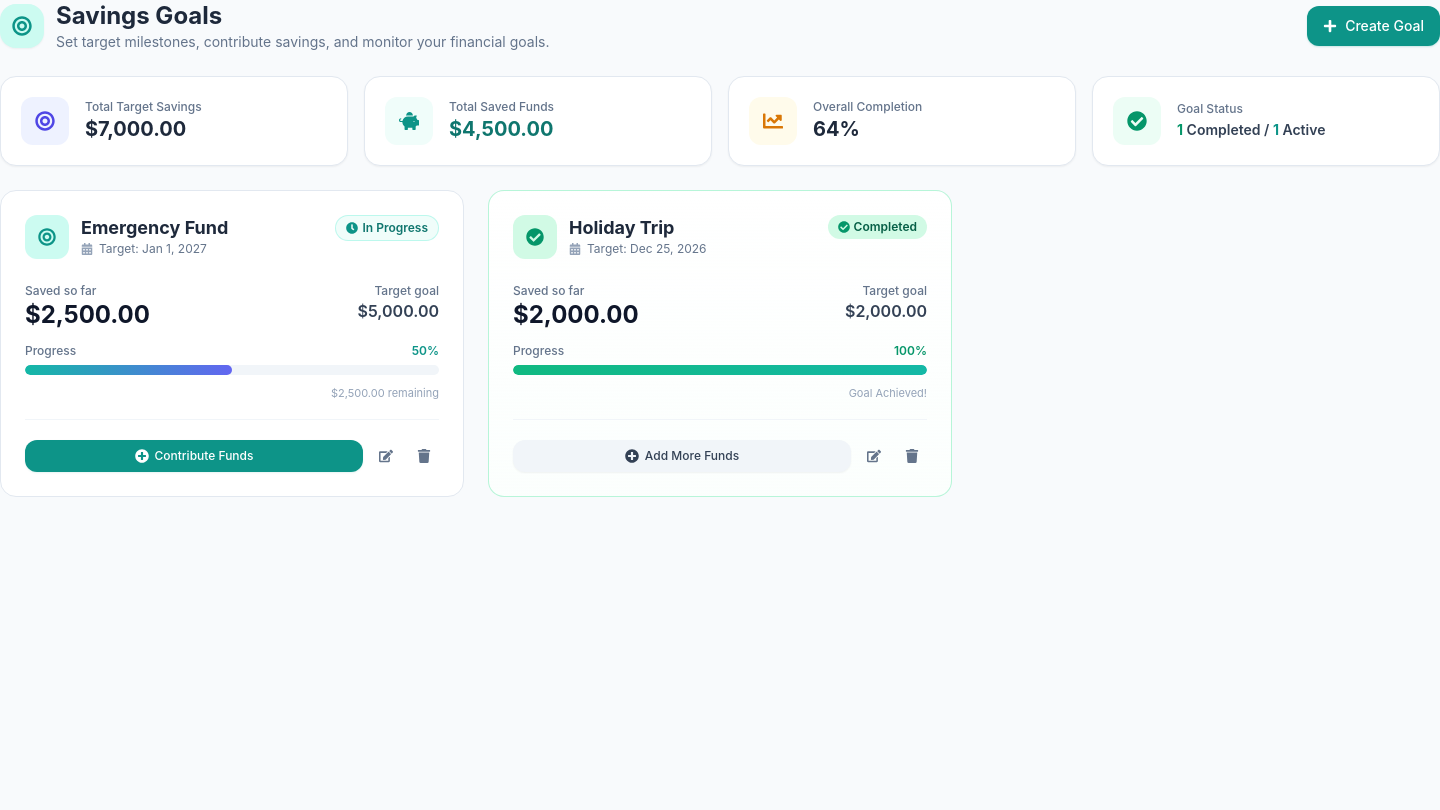
Test case: GoalsPage Component › cancels delete dialog when cancel button is clicked
This screenshot has width=1440, height=810.
What coordinates should you click on to do the following:
click the 1st button with test id "goal-delete-button"
I would click on:
 (424, 456)
Its box is top-left (409, 441), bottom-right (439, 471).
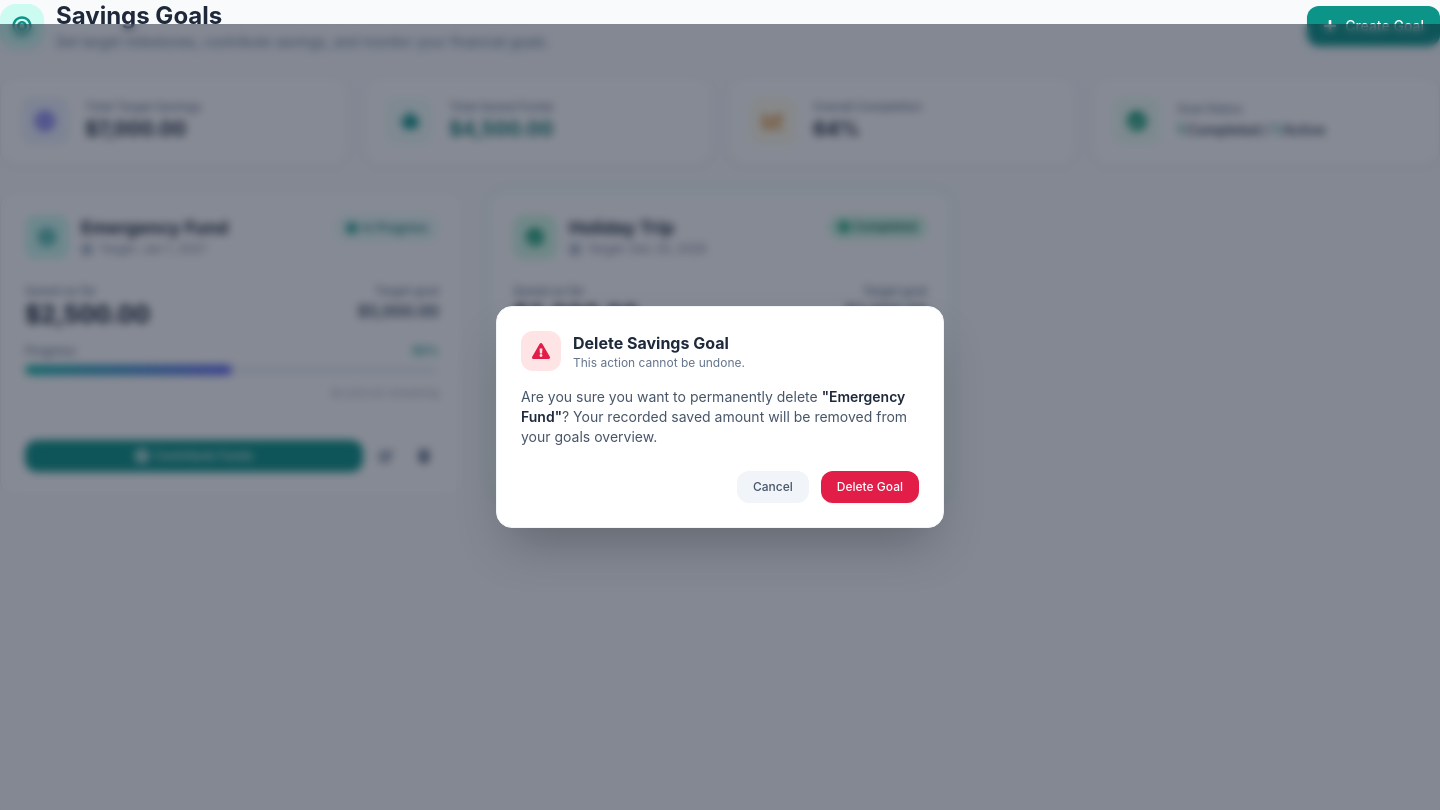
Now the dialog with test id "goal-delete-dialog" is shown
What coordinates should you click on to do the following:
click the button with test id "cancel-delete-goal-button"
I would click on:
 (773, 487)
Its box is top-left (737, 471), bottom-right (809, 503).
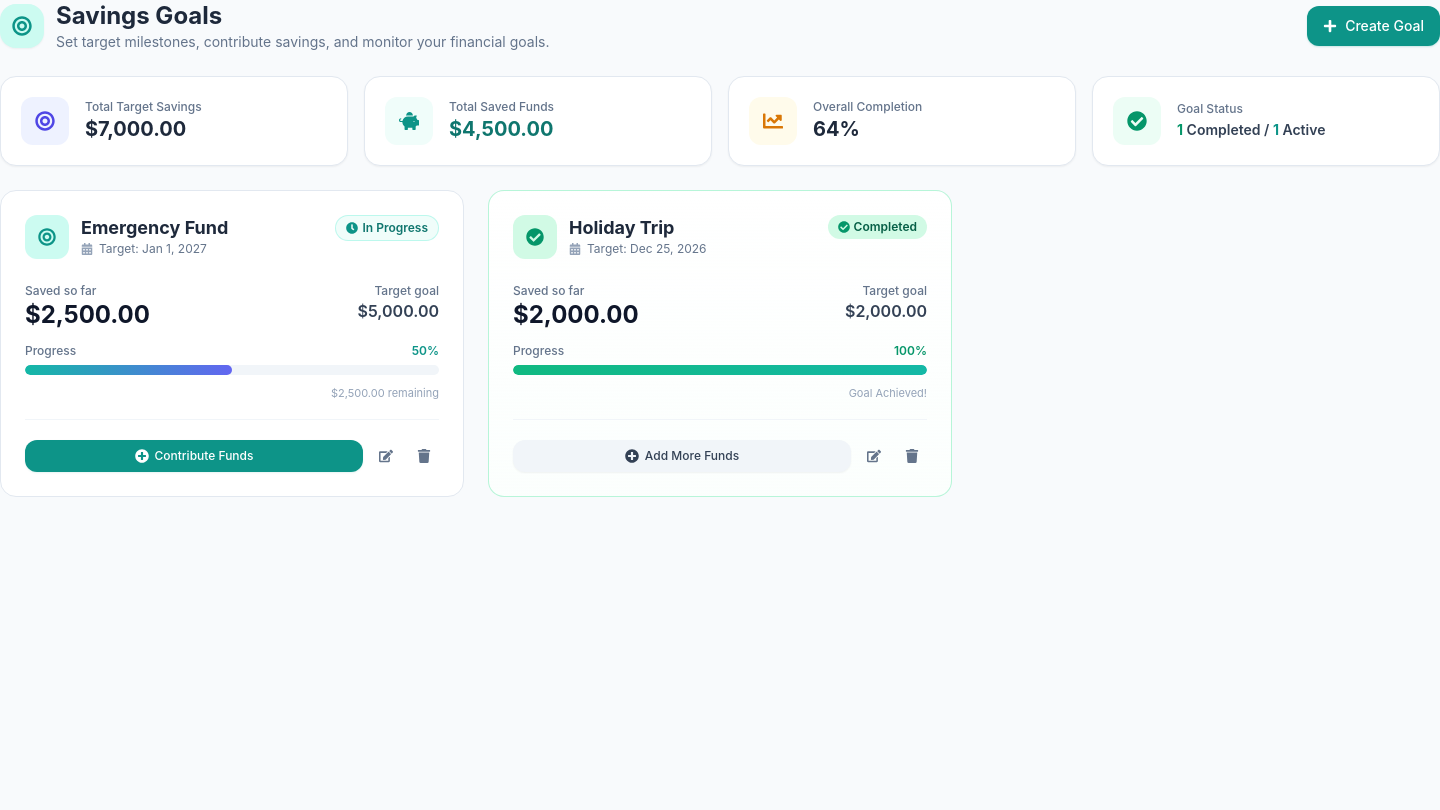
Now the dialog with test id "goal-delete-dialog" is gone
